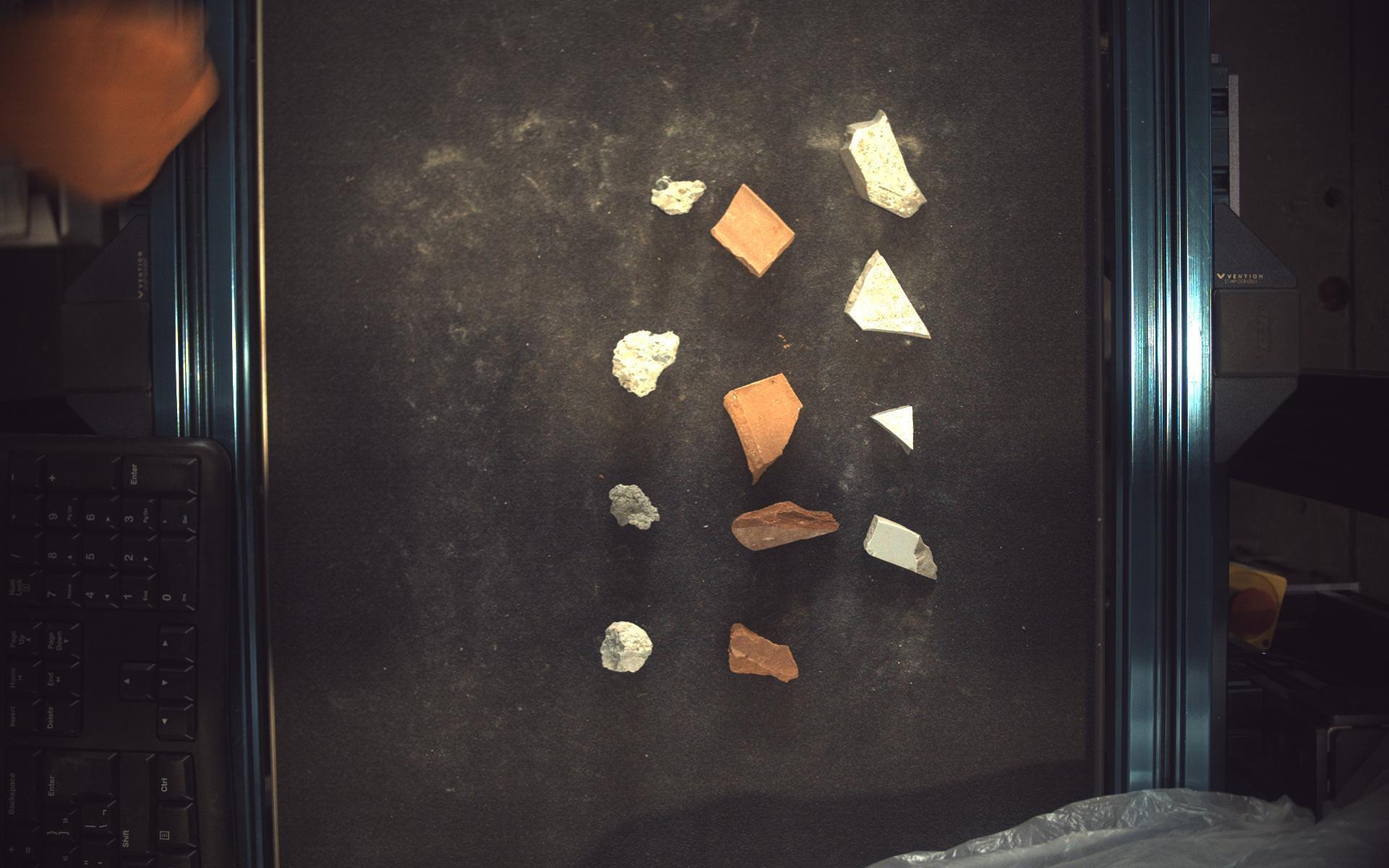brick: (725, 373, 804, 483), (712, 183, 796, 277), (733, 502, 841, 551), (731, 624, 799, 683)
concrete: (613, 330, 681, 397), (601, 622, 653, 673), (610, 485, 660, 530), (653, 175, 708, 214)
tile: (842, 109, 927, 217), (847, 250, 931, 338), (866, 516, 939, 580), (873, 406, 916, 451)
